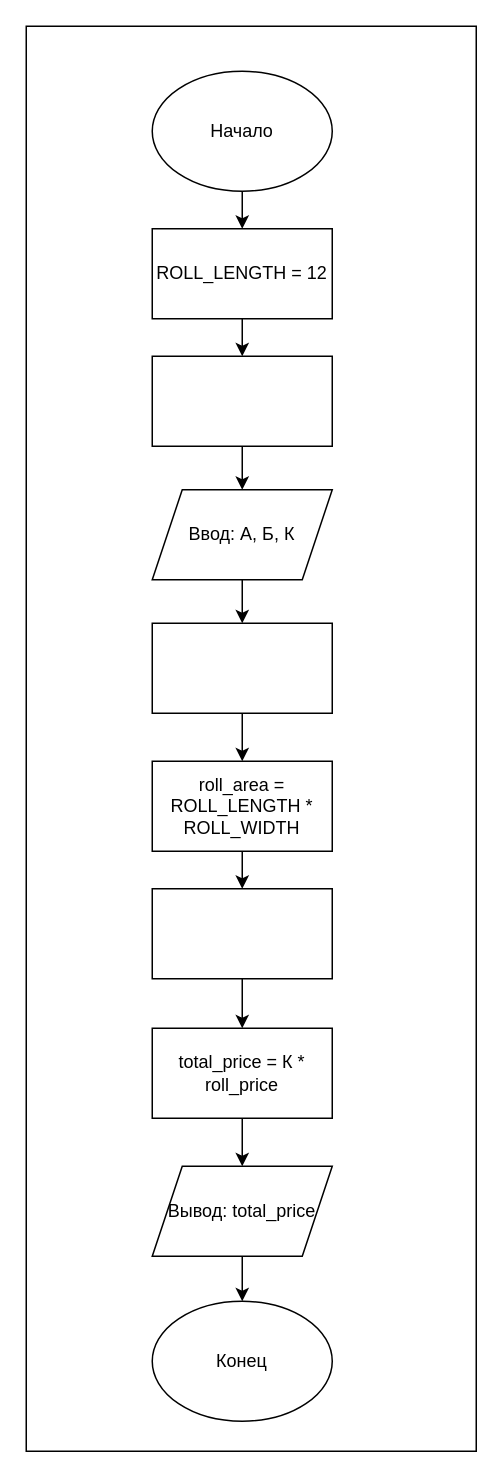
This 503x1478 diagram has some shape labels left out. Here are the shapes that lost their labels. From the top down, the centre of each, then its label:
At [241,400]: "ROLL_WIDTH = 1".
At [241,667]: "wall_area = А * Б".
At [241,933]: "roll_quantity = (wall_area + roll_area - 1) / roll_area".
